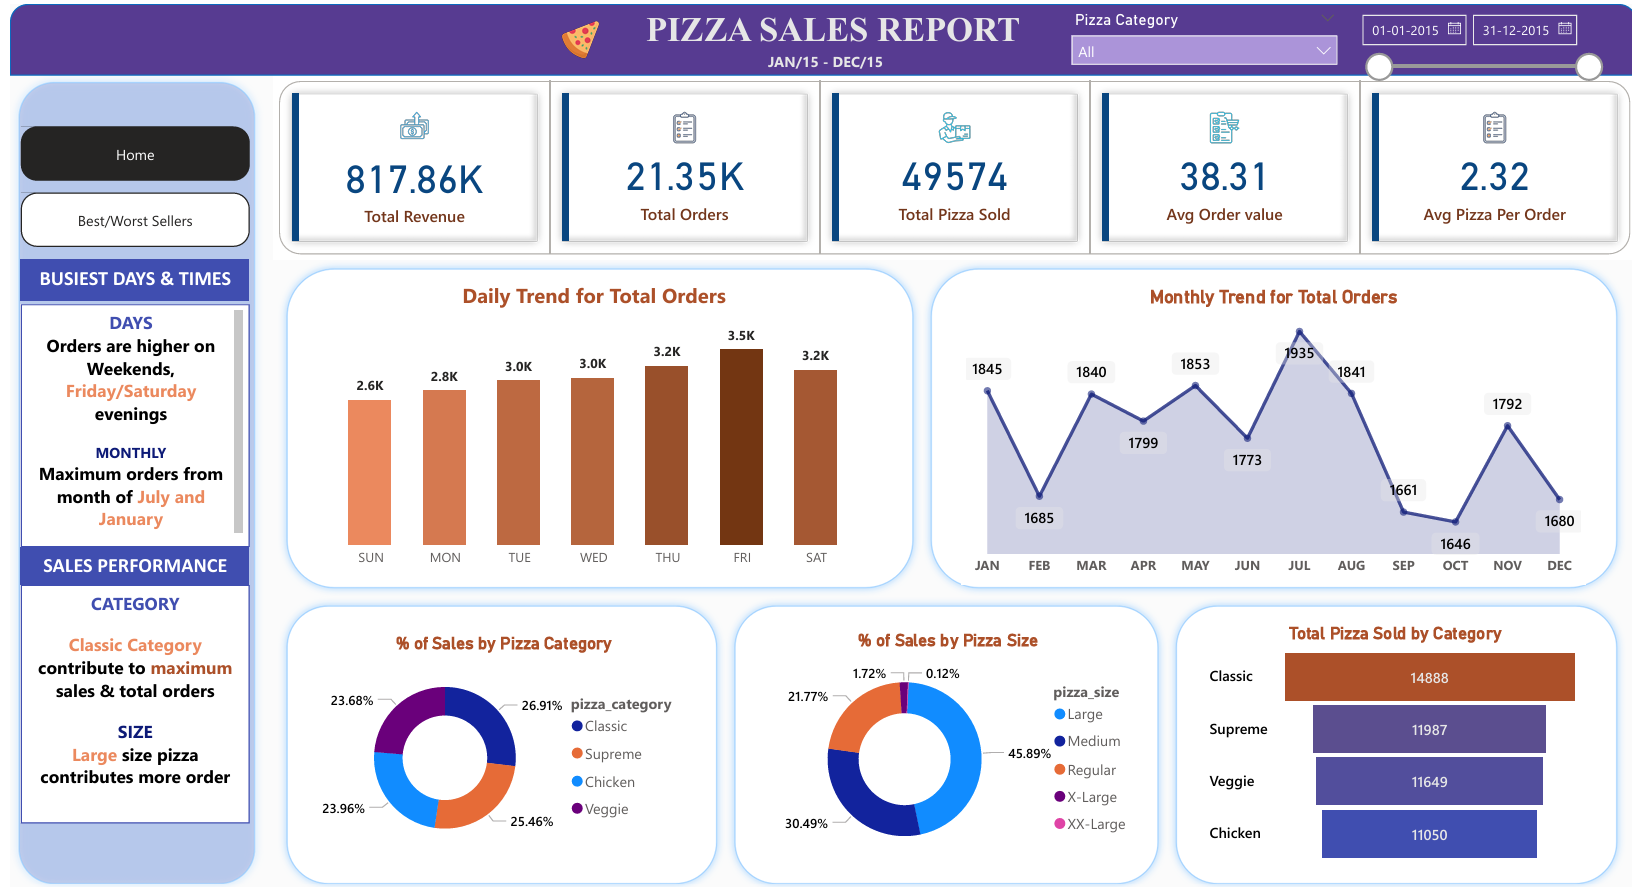

This screenshot's page, from the dashboard's own definition file:
{"tool":"powerbi","page":{"name":"Home","canvas":[1500,820],"ordinal":0},"visuals":[{"type":"shape","box":[0,64.3,234.3,755.7],"z":0},{"type":"cardVisual","fields":{"Data":["pizza_sales.Total Revenue","pizza_sales.Total Orders","pizza_sales.Total Pizza Sold","pizza_sales.Avg Order value","pizza_sales.Avg Pizza Per Order"]},"box":[242.9,65.7,1257.1,170],"z":1000},{"type":"shape","box":[0,0,1500,65.7],"z":2000},{"type":"textbox","box":[537.1,0,444.3,51.4],"z":3000},{"type":"textbox","box":[694.3,38.6,131.4,32.9],"z":4000},{"type":"image","box":[500,10,51.4,45.7],"z":5000},{"type":"shape","box":[247.1,235.7,594.3,311.4],"z":6000},{"type":"columnChart","title":"Daily Trend for Total Orders","fields":{"Category":["pizza_sales.Order Day"],"Y":["pizza_sales.Total Orders"]},"box":[280,255.7,517.1,272.9],"z":7000},{"type":"shape","box":[841.4,235.7,648.6,311.4],"z":8000},{"type":"areaChart","title":"Monthly Trend for Total Orders","fields":{"Y":["pizza_sales.Total Orders"],"Category":["pizza_sales.Order Month"]},"box":[877.1,260,575.7,275.7],"z":9000},{"type":"shape","box":[247.1,547.1,412.9,272.9],"z":10000},{"type":"shape","box":[660,547.1,407.1,272.9],"z":11000},{"type":"shape","box":[1067.1,547.1,422.9,272.9],"z":12000},{"type":"donutChart","title":"% of Sales by Pizza Category","fields":{"Category":["pizza_sales.pizza_category"],"Y":["pizza_sales.Total Revenue"]},"box":[280,580,351.4,212.9],"z":13000},{"type":"textbox","box":[10,235.7,211.4,38.6],"z":14000},{"type":"donutChart","title":"% of Sales by Pizza Size","fields":{"Category":["pizza_sales.pizza_size"],"Y":["pizza_sales.Total Revenue"]},"box":[682.9,577.1,364.3,221.4],"z":15000},{"type":"funnel","title":"Total Pizza Sold by Category","fields":{"Y":["pizza_sales.Total Pizza Sold"],"Category":["pizza_sales.pizza_category"]},"box":[1101.4,571.4,351.4,225.7],"z":16000},{"type":"textbox","box":[10,277.1,211.4,224.3],"z":17000},{"type":"textbox","box":[10,535.7,211.4,220],"z":18000},{"type":"textbox","box":[10,501.4,211.4,34.3],"z":19000},{"type":"slicer","fields":{"Values":["pizza_sales.pizza_category"]},"box":[968.6,1.4,265.7,62.9],"z":20000},{"type":"slicer","fields":{"Values":["pizza_sales.order_date"]},"box":[1234.3,0,242.9,80],"z":21000},{"type":"pageNavigator","box":[10,112.9,211.4,50],"z":22000},{"type":"pageNavigator","box":[10,174.3,211.4,50],"z":23000}]}

Visuals, with their boxes in screenshot pixels (x1, y1, x2, y2), scaled from the page's 1500x820 canvas onto the 1632x887 screenshot:
shape: <region>0, 70, 255, 886</region>
cardVisual - pizza_sales.Total Revenue x pizza_sales.Total Orders: <region>264, 71, 1631, 255</region>
shape: <region>0, 0, 1631, 71</region>
textbox: <region>584, 0, 1068, 56</region>
textbox: <region>755, 42, 898, 77</region>
image: <region>544, 11, 600, 60</region>
shape: <region>269, 255, 915, 592</region>
"Daily Trend for Total Orders" columnChart: <region>305, 277, 867, 572</region>
shape: <region>915, 255, 1621, 592</region>
"Monthly Trend for Total Orders" areaChart: <region>954, 281, 1581, 579</region>
shape: <region>269, 592, 718, 886</region>
shape: <region>718, 592, 1161, 886</region>
shape: <region>1161, 592, 1621, 886</region>
"% of Sales by Pizza Category" donutChart: <region>305, 627, 687, 858</region>
textbox: <region>11, 255, 241, 297</region>
"% of Sales by Pizza Size" donutChart: <region>743, 624, 1139, 864</region>
"Total Pizza Sold by Category" funnel: <region>1198, 618, 1581, 862</region>
textbox: <region>11, 300, 241, 542</region>
textbox: <region>11, 579, 241, 817</region>
textbox: <region>11, 542, 241, 579</region>
slicer - pizza_sales.pizza_category: <region>1054, 2, 1343, 70</region>
slicer - pizza_sales.order_date: <region>1343, 0, 1607, 87</region>
pageNavigator: <region>11, 122, 241, 176</region>
pageNavigator: <region>11, 189, 241, 243</region>
